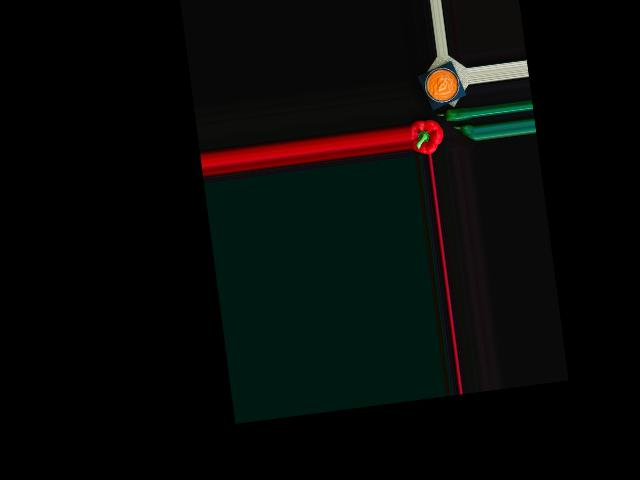bell_pepper: (409, 117, 444, 155)
